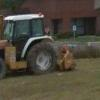Tractor: (2, 7, 75, 78)
